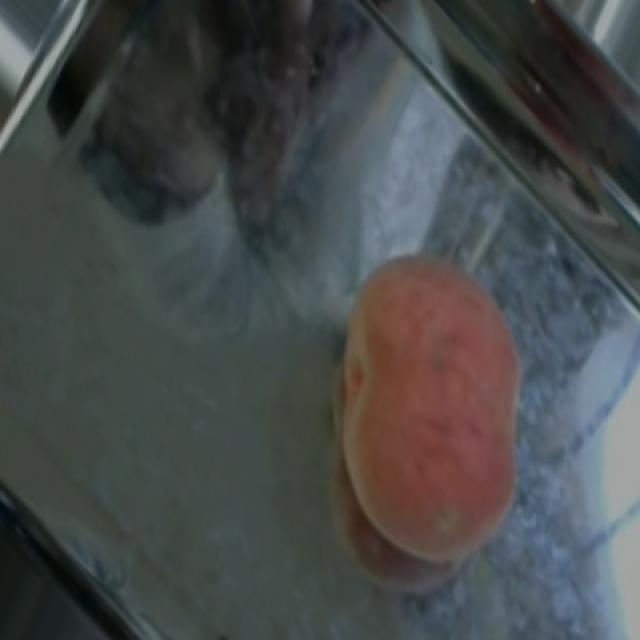Fruit: (294, 228, 550, 586)
